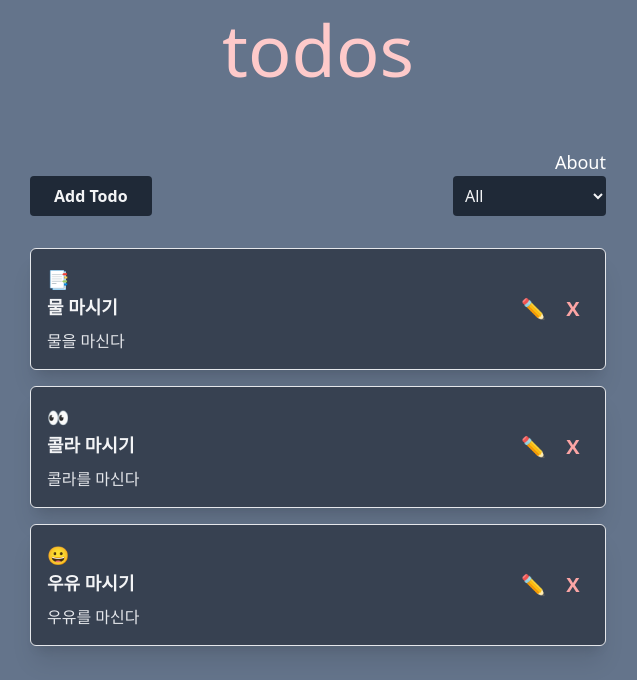
Test: todo 관리 › 입력 항목을 빠뜨리면 안내 메시지가 출력된다.
The width and height of the screenshot is (637, 680).
Click the button "Add Todo" at (91, 196), box x1=30 y1=176 x2=152 y2=216
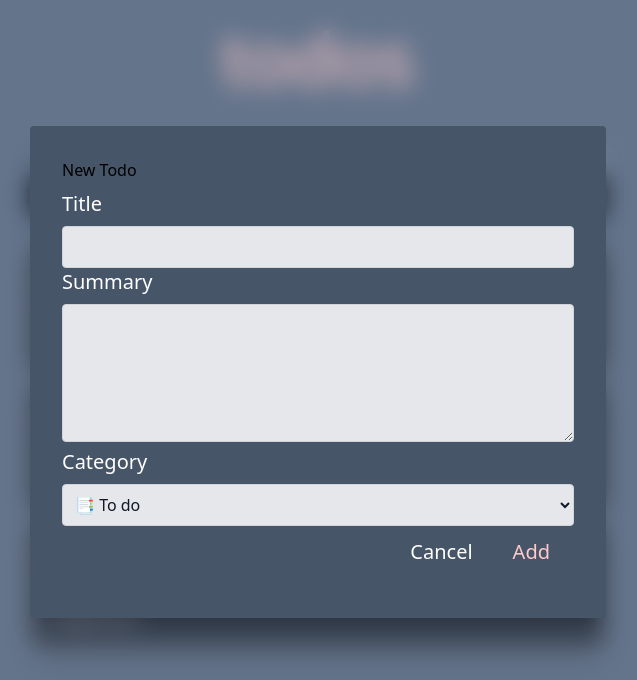
Click the button "Add" at (532, 552), box x1=489 y1=526 x2=574 y2=578
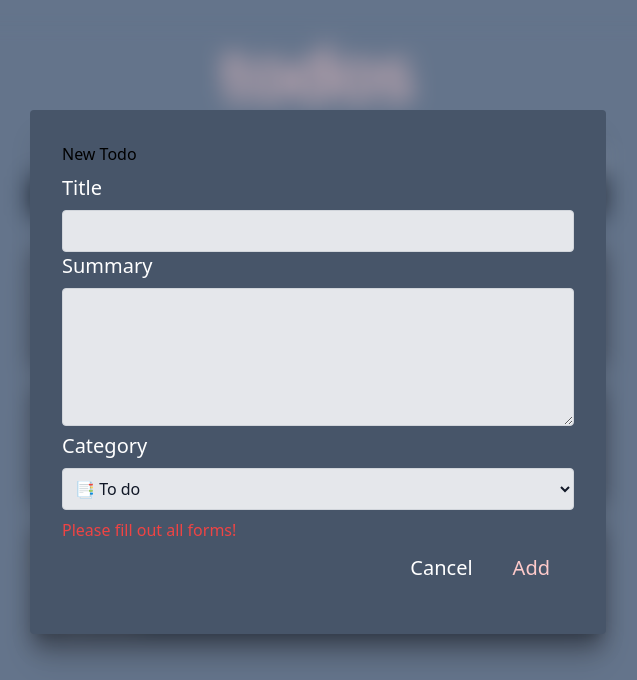
Result: the text "Please fill out all forms!" is shown at x1=62 y1=519 x2=236 y2=541
